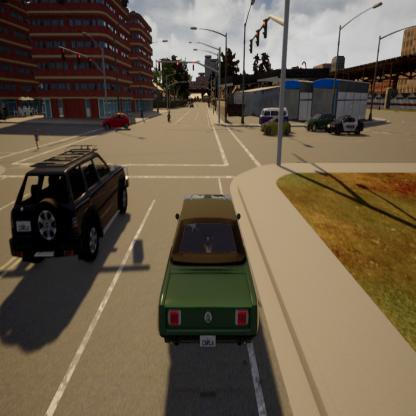Cars: (159, 194, 257, 346), (11, 148, 127, 260), (327, 116, 364, 137), (306, 113, 338, 133), (260, 117, 291, 134), (260, 107, 288, 125), (102, 113, 130, 130), (166, 108, 171, 121)
Pedestrian: (34, 126, 40, 152), (1, 102, 6, 122)
